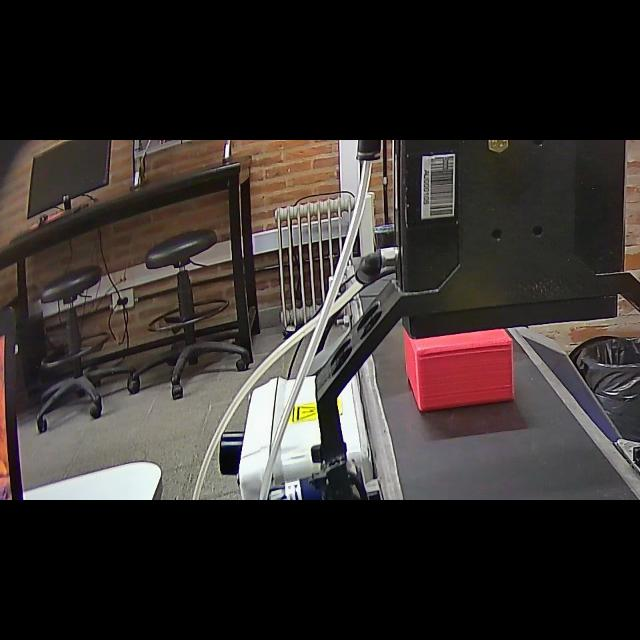redBox: (404, 322, 520, 416)
